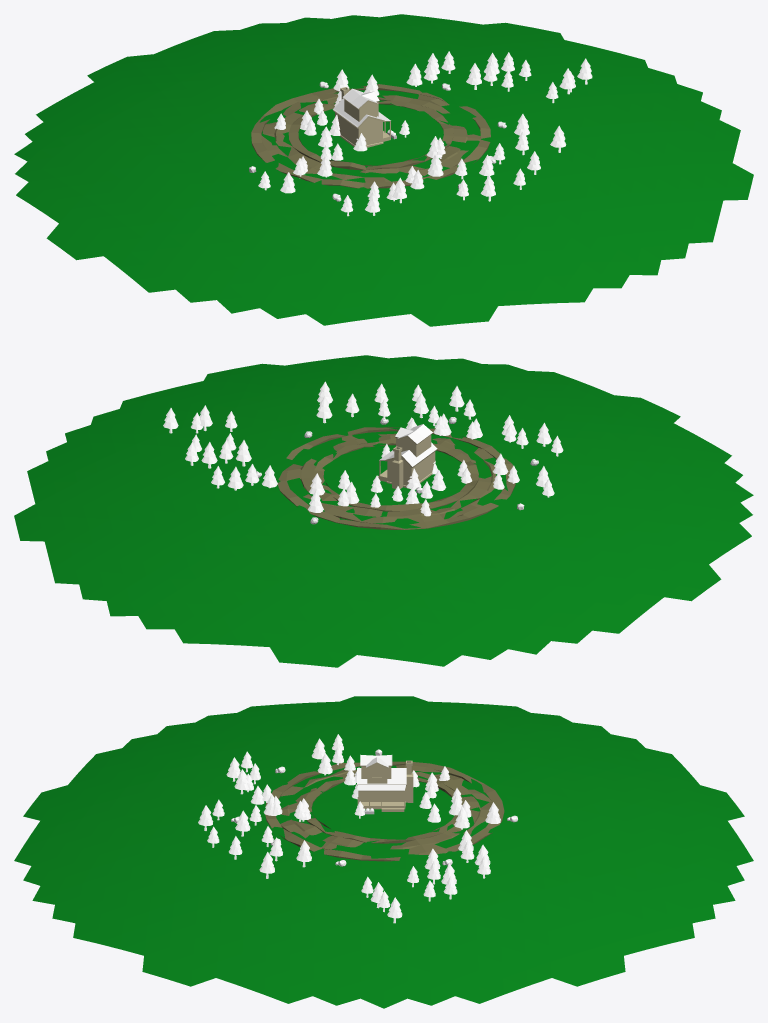
The model's file is housev0.glb.
The picture shows the model from 3 angles, top to bottom: view 1: azimuth 30°, elevation 25°; view 2: azimuth 150°, elevation 25°; view 3: azimuth 270°, elevation 25°; orthographic projection.
Visible parts, largest first — view 1: terre, route, maison 1; view 2: terre, route, maison 1; view 3: terre, route, maison 1.
Boxes of the visible parts, x1,y1,x2,y2 form: terre: (14, 14, 753, 326); route: (251, 84, 490, 188); maison 1: (332, 87, 390, 147); terre: (14, 355, 753, 667); route: (277, 426, 515, 529); maison 1: (378, 424, 437, 489); terre: (14, 696, 753, 1008); route: (265, 761, 504, 861); maison 1: (357, 754, 413, 811).
Size of the model in its own units: 93.68 by 11.96 by 93.72.
